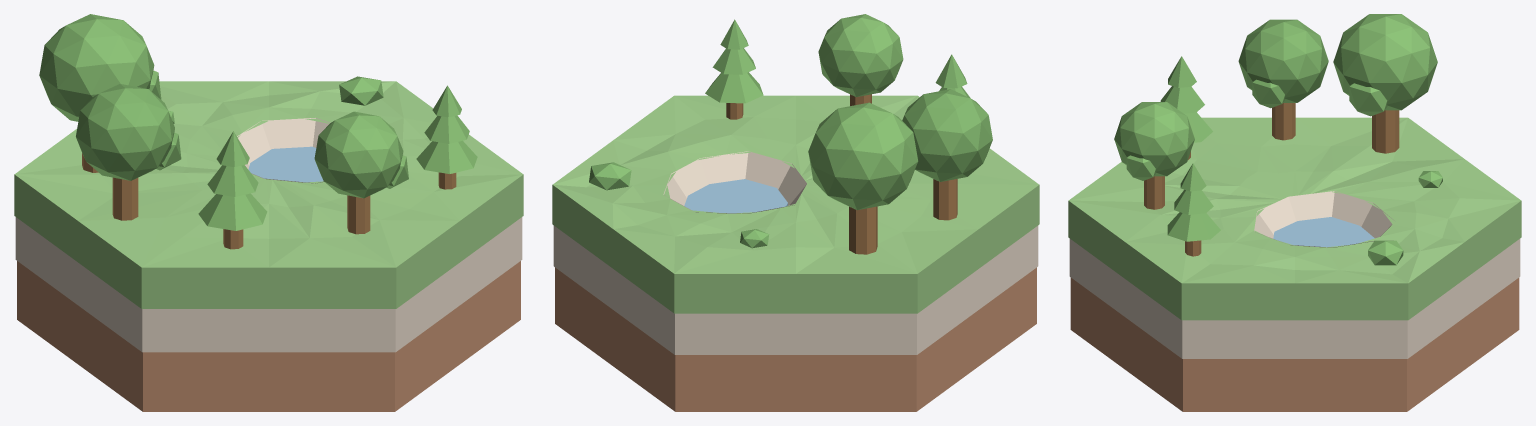
The model's file is paradise-v6.glb.
3 views of the same model, side by side, from view 1: azimuth 30°, elevation 25°; view 2: azimuth 150°, elevation 25°; view 3: azimuth 270°, elevation 25° (orthographic). The views are drawn at different scales.
Parts seen in each view (by area): view 1: GRASS_top, HEX_brown, HEX_cream, HEX_grass_side, T0_crown, T1_crown, T3_crown, POND_walls, POND_water, T2_tier_0, T4_tier_0, T2_tier_1 (+6 smaller); view 2: GRASS_top, HEX_brown, HEX_cream, HEX_grass_side, T0_crown, T1_crown, T3_crown, POND_walls, POND_water, T4_tier_0, T0_trunk, T1_trunk (+5 smaller); view 3: GRASS_top, HEX_brown, HEX_cream, HEX_grass_side, T0_crown, T1_crown, T3_crown, POND_walls, POND_water, T4_tier_0, T0_trunk, T0_tuft (+10 smaller).
Part boxes in pixels (x1,y1,x2,y2): GRASS_top: (14, 81, 523, 267); HEX_brown: (17, 261, 520, 411); HEX_cream: (15, 217, 522, 352); HEX_grass_side: (14, 174, 523, 308); T0_crown: (39, 14, 154, 121); T1_crown: (76, 84, 174, 180); T3_crown: (314, 111, 403, 198); POND_walls: (237, 118, 330, 183); POND_water: (248, 146, 323, 182); T2_tier_0: (198, 193, 267, 230); T4_tier_0: (416, 140, 477, 173); T2_tier_1: (207, 165, 258, 196); GRASS_top: (552, 95, 1039, 273); HEX_brown: (555, 267, 1036, 411); HEX_cream: (553, 225, 1038, 354); HEX_grass_side: (552, 185, 1039, 313); T0_crown: (808, 102, 918, 210); T1_crown: (902, 89, 992, 181); T3_crown: (818, 14, 903, 97); POND_walls: (663, 151, 806, 213); POND_water: (684, 179, 787, 213); T4_tier_0: (705, 72, 763, 103); T0_trunk: (849, 206, 877, 254); T1_trunk: (933, 179, 957, 220); GRASS_top: (1068, 117, 1521, 283); HEX_brown: (1070, 277, 1519, 411); HEX_cream: (1069, 239, 1520, 358); HEX_grass_side: (1068, 201, 1521, 320); T0_crown: (1333, 14, 1437, 110); T1_crown: (1238, 19, 1328, 102); T3_crown: (1114, 102, 1194, 176); POND_walls: (1254, 191, 1394, 247); POND_water: (1273, 217, 1374, 247); T4_tier_0: (1167, 212, 1220, 241); T0_trunk: (1372, 110, 1399, 153); T0_tuft: (1349, 83, 1387, 116).
Size of the model in its own units: 1.74 by 1.27 by 2.
